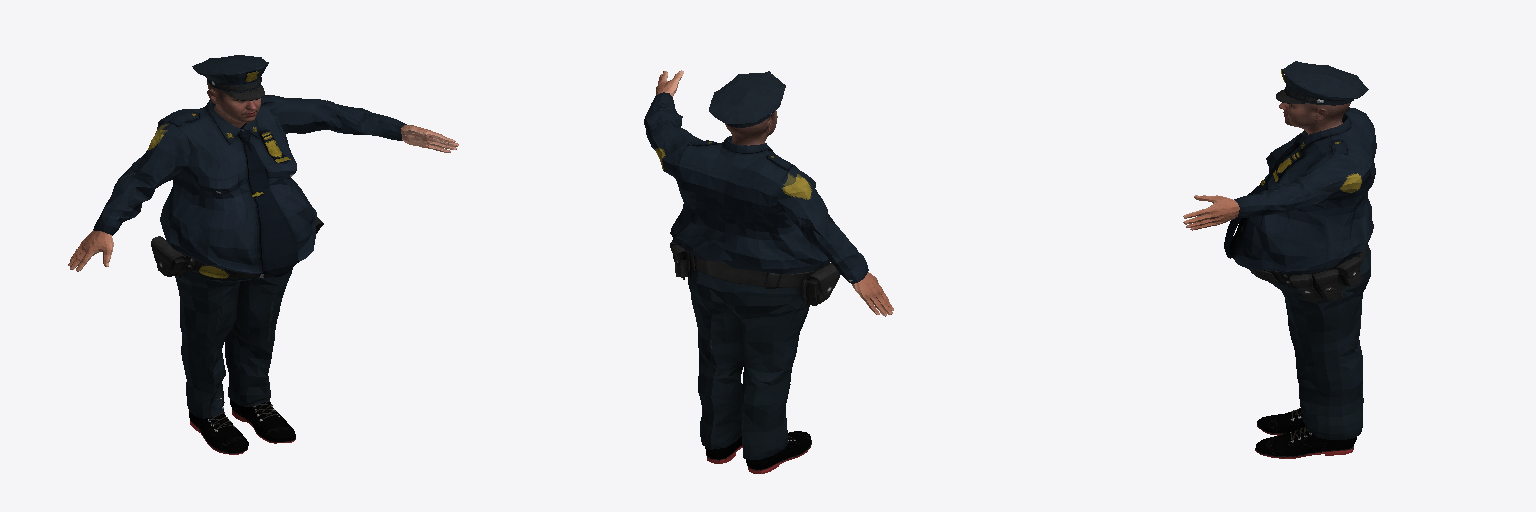
The picture shows the model from 3 angles: view 1: azimuth 30°, elevation 25°; view 2: azimuth 150°, elevation 25°; view 3: azimuth 270°, elevation 25°; orthographic projection.
Visible parts, largest first — view 1: dikkewout_002, Object005, Object004, Object003; view 2: dikkewout_002, Object005, Object003, Object004; view 3: dikkewout_002, Object004, Object003.
Part boxes in pixels (bbox=[...]): dikkewout_002: bbox=[151, 55, 323, 454]; Object005: bbox=[68, 121, 190, 271]; Object004: bbox=[327, 100, 458, 152]; Object003: bbox=[265, 95, 341, 133]; dikkewout_002: bbox=[670, 71, 840, 473]; Object005: bbox=[777, 166, 893, 316]; Object003: bbox=[650, 121, 702, 178]; Object004: bbox=[644, 70, 683, 143]; dikkewout_002: bbox=[1224, 61, 1376, 458]; Object004: bbox=[1183, 177, 1324, 230]; Object003: bbox=[1294, 148, 1370, 205].
Bounding box in the file's own units: 59.64 × 68.21 × 32.21.
Materials: 2 (2 with a texture image).